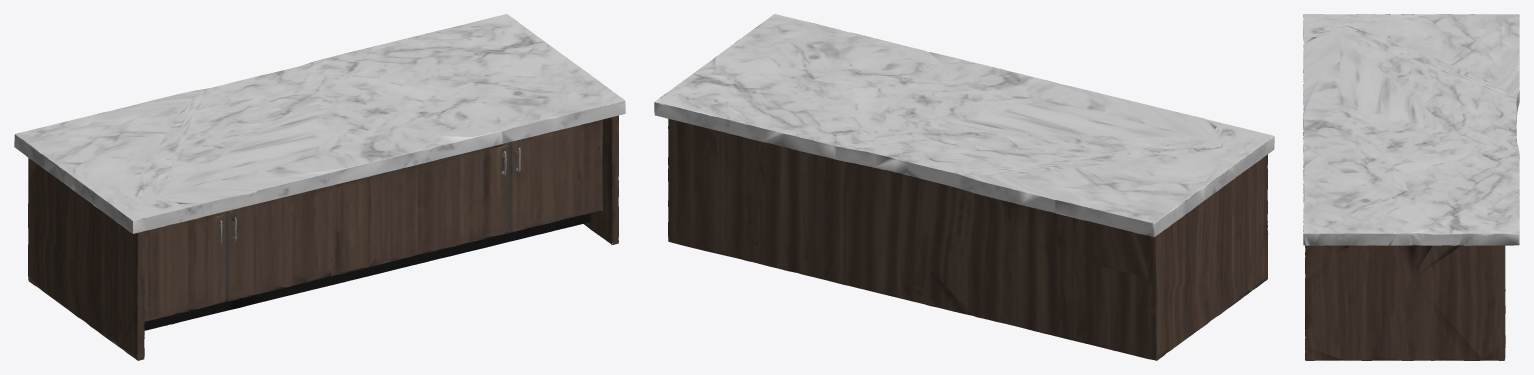
The model's file is PenthouseKitchenIsland.glb.
3 renders of one model, left to right at view 1: azimuth 30°, elevation 25°; view 2: azimuth 150°, elevation 25°; view 3: azimuth 270°, elevation 25°, orthographic. The views are drawn at different scales.
Parts seen in each view (by area): view 1: Penthouse-Kitchen-Island_00, Penthouse-Kitchen-Island_30, Penthouse-Kitchen-Island_20, Penthouse-Kitchen-Island_10, Penthouse-Kitchen-Island_01, Penthouse-Kitchen-Island_31, Penthouse-Kitchen-Island_21, Penthouse-Kitchen-Island_11; view 2: Penthouse-Kitchen-Island_01, Penthouse-Kitchen-Island_21, Penthouse-Kitchen-Island_11, Penthouse-Kitchen-Island_31, Penthouse-Kitchen-Island_00, Penthouse-Kitchen-Island_20, Penthouse-Kitchen-Island_10, Penthouse-Kitchen-Island_30; view 3: Penthouse-Kitchen-Island_30, Penthouse-Kitchen-Island_31, Penthouse-Kitchen-Island_10, Penthouse-Kitchen-Island_20, Penthouse-Kitchen-Island_11, Penthouse-Kitchen-Island_21, Penthouse-Kitchen-Island_00, Penthouse-Kitchen-Island_01.
Part boxes in pixels (bbox=[...]): Penthouse-Kitchen-Island_00: bbox=[73, 147, 255, 360]; Penthouse-Kitchen-Island_30: bbox=[444, 57, 625, 248]; Penthouse-Kitchen-Island_20: bbox=[320, 87, 502, 278]; Penthouse-Kitchen-Island_10: bbox=[197, 117, 379, 308]; Penthouse-Kitchen-Island_01: bbox=[14, 104, 196, 317]; Penthouse-Kitchen-Island_31: bbox=[385, 14, 565, 86]; Penthouse-Kitchen-Island_21: bbox=[263, 44, 442, 117]; Penthouse-Kitchen-Island_11: bbox=[138, 75, 319, 147]; Penthouse-Kitchen-Island_01: bbox=[1029, 149, 1214, 360]; Penthouse-Kitchen-Island_21: bbox=[779, 88, 963, 301]; Penthouse-Kitchen-Island_11: bbox=[906, 119, 1088, 331]; Penthouse-Kitchen-Island_31: bbox=[654, 58, 838, 270]; Penthouse-Kitchen-Island_00: bbox=[1090, 105, 1274, 321]; Penthouse-Kitchen-Island_20: bbox=[839, 44, 1023, 118]; Penthouse-Kitchen-Island_10: bbox=[965, 75, 1149, 149]; Penthouse-Kitchen-Island_30: bbox=[715, 14, 898, 87]; Penthouse-Kitchen-Island_30: bbox=[1303, 178, 1411, 360]; Penthouse-Kitchen-Island_31: bbox=[1411, 178, 1519, 360]; Penthouse-Kitchen-Island_10: bbox=[1303, 68, 1411, 125]; Penthouse-Kitchen-Island_20: bbox=[1303, 123, 1411, 178]; Penthouse-Kitchen-Island_11: bbox=[1411, 68, 1519, 123]; Penthouse-Kitchen-Island_21: bbox=[1411, 123, 1519, 178]; Penthouse-Kitchen-Island_00: bbox=[1303, 14, 1411, 73]; Penthouse-Kitchen-Island_01: bbox=[1411, 14, 1519, 68].
Size of the model in its own units: 12.67 by 3.51 by 5.29.
1 material, 1 textured.
